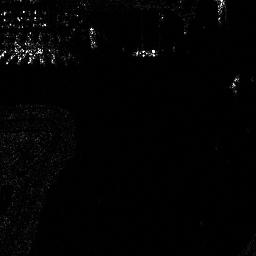ship: (132, 48, 159, 58), (87, 26, 98, 47)
